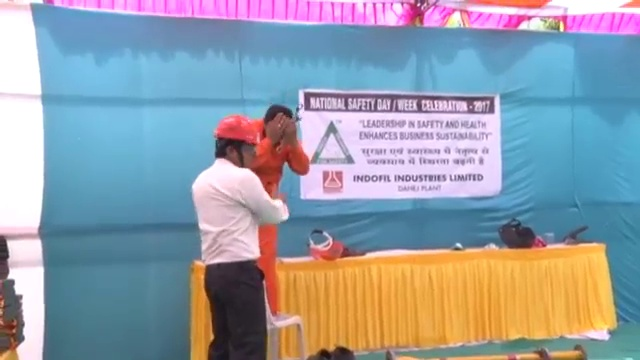helmet: (212, 115, 257, 147)
helmet_off: (264, 102, 299, 136)
helmet_on: (211, 113, 259, 170)
person: (188, 114, 289, 360), (250, 102, 312, 317)
